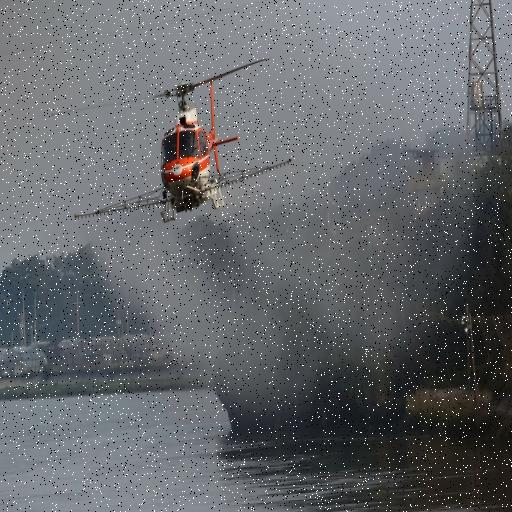helicopter: (72, 53, 280, 243)
